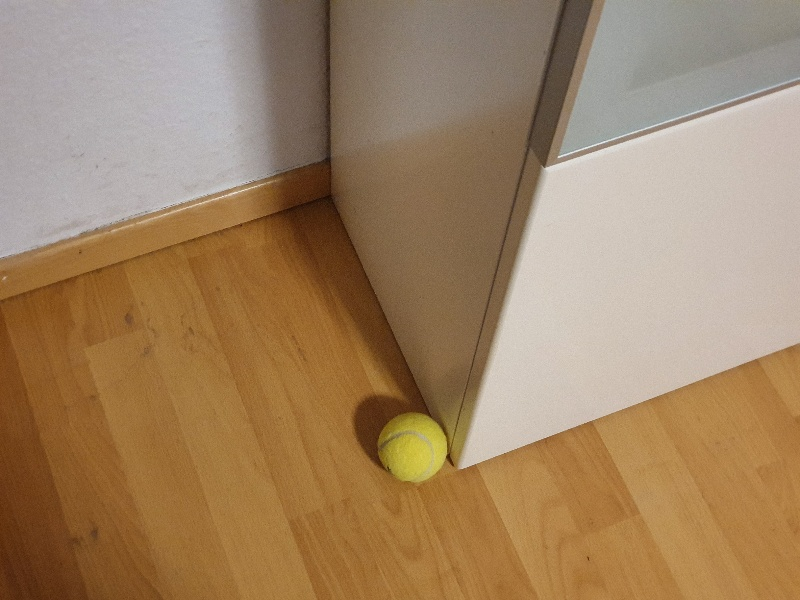Tennisball: (366, 409, 457, 489)
